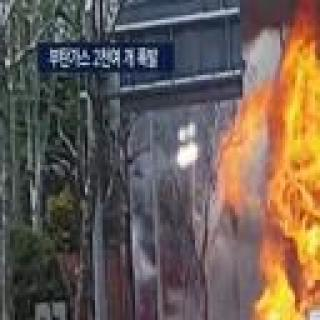fire: (285, 72, 320, 305), (248, 317, 297, 320)
